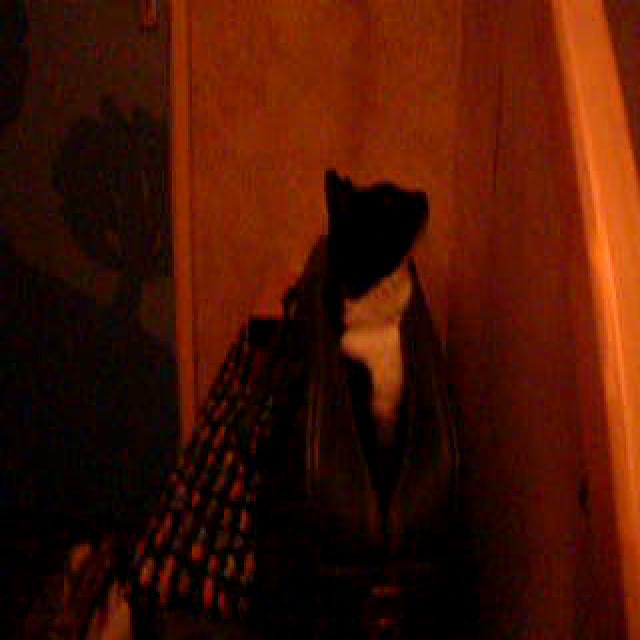Cat: (298, 144, 436, 456)
